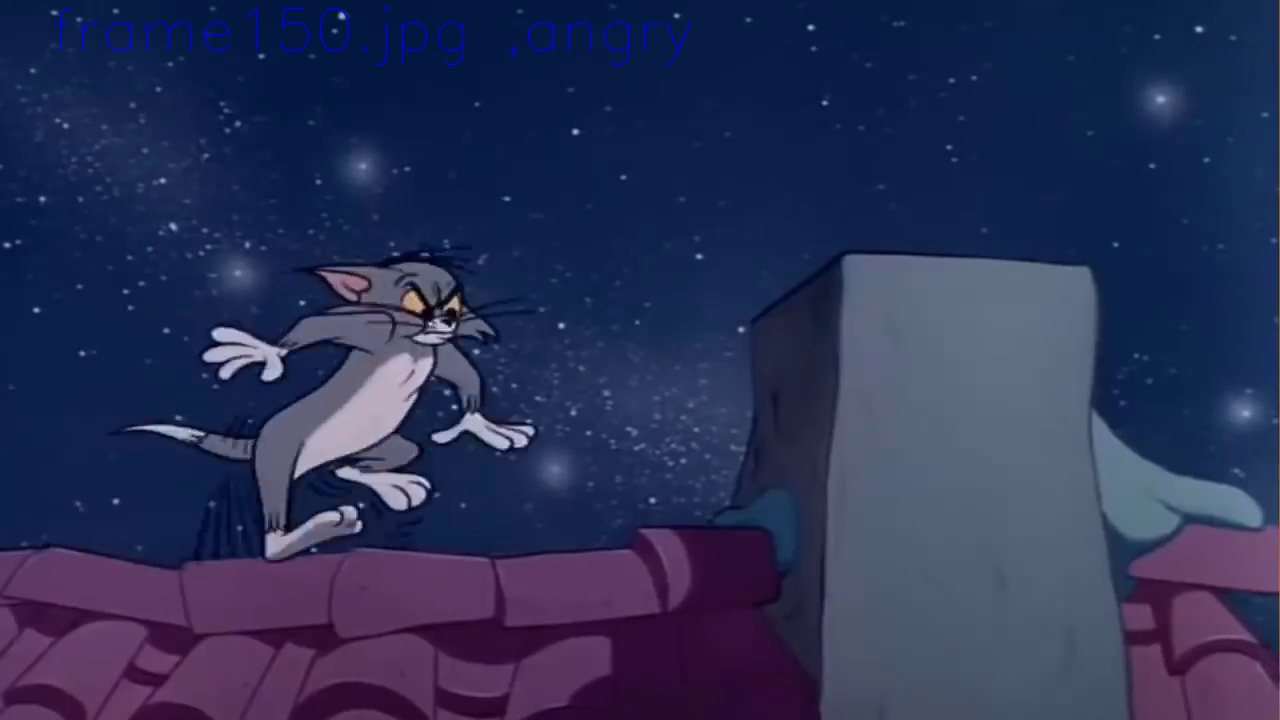angry: (394, 273, 462, 346)
